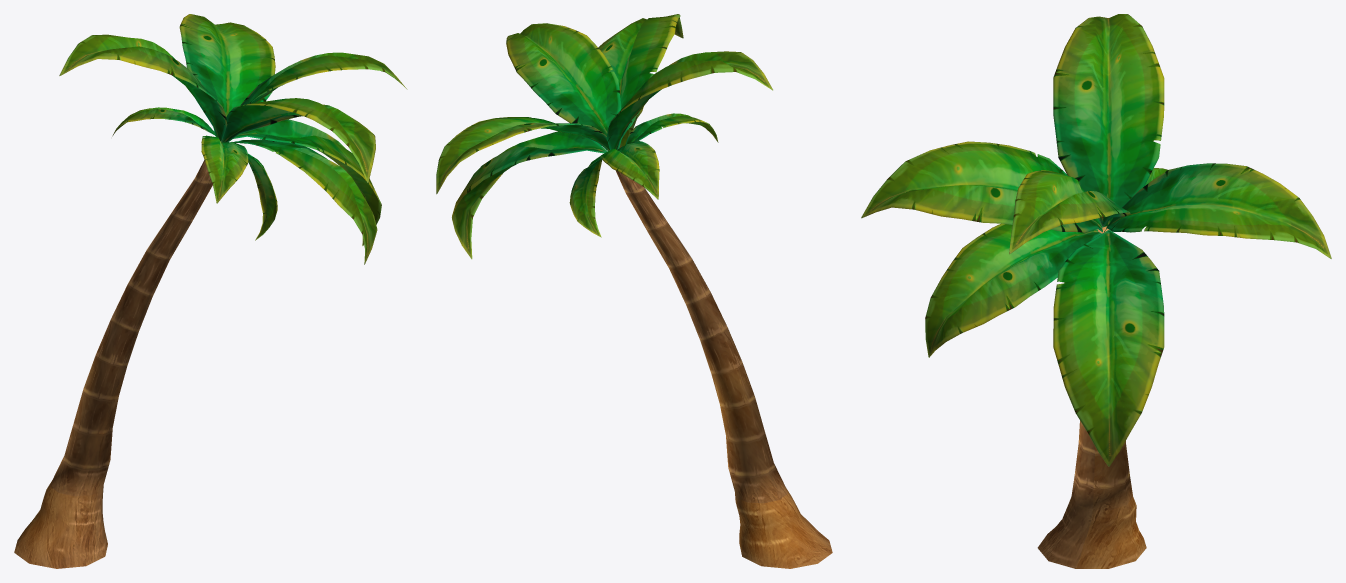
The model's file is Palm_008.fbx.
3 renders of one model, left to right at view 1: azimuth 30°, elevation 25°; view 2: azimuth 150°, elevation 25°; view 3: azimuth 270°, elevation 25°, orthographic. The views are drawn at different scales.
Parts seen in each view (by area): view 1: Palm_008_LOD0; view 2: Palm_008_LOD0; view 3: Palm_008_LOD0.
Boxes of the visible parts, x1=… form: Palm_008_LOD0: x1=14, y1=14, x2=407, y2=568; Palm_008_LOD0: x1=436, y1=14, x2=832, y2=568; Palm_008_LOD0: x1=861, y1=14, x2=1331, y2=568.
Size of what is drawn, in the model's own units: 513 by 672 by 515.
